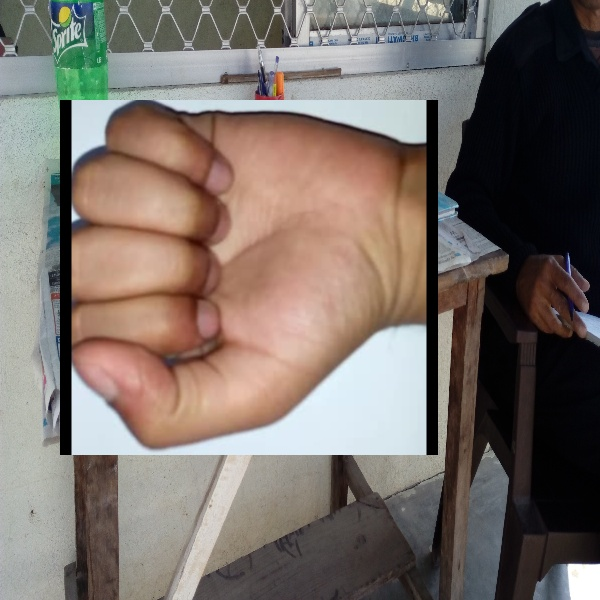A: (60, 100, 438, 455)
